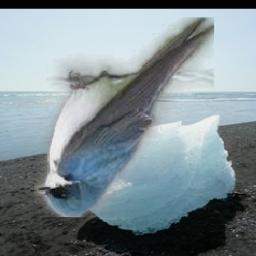Swallow: (35, 17, 215, 217)
